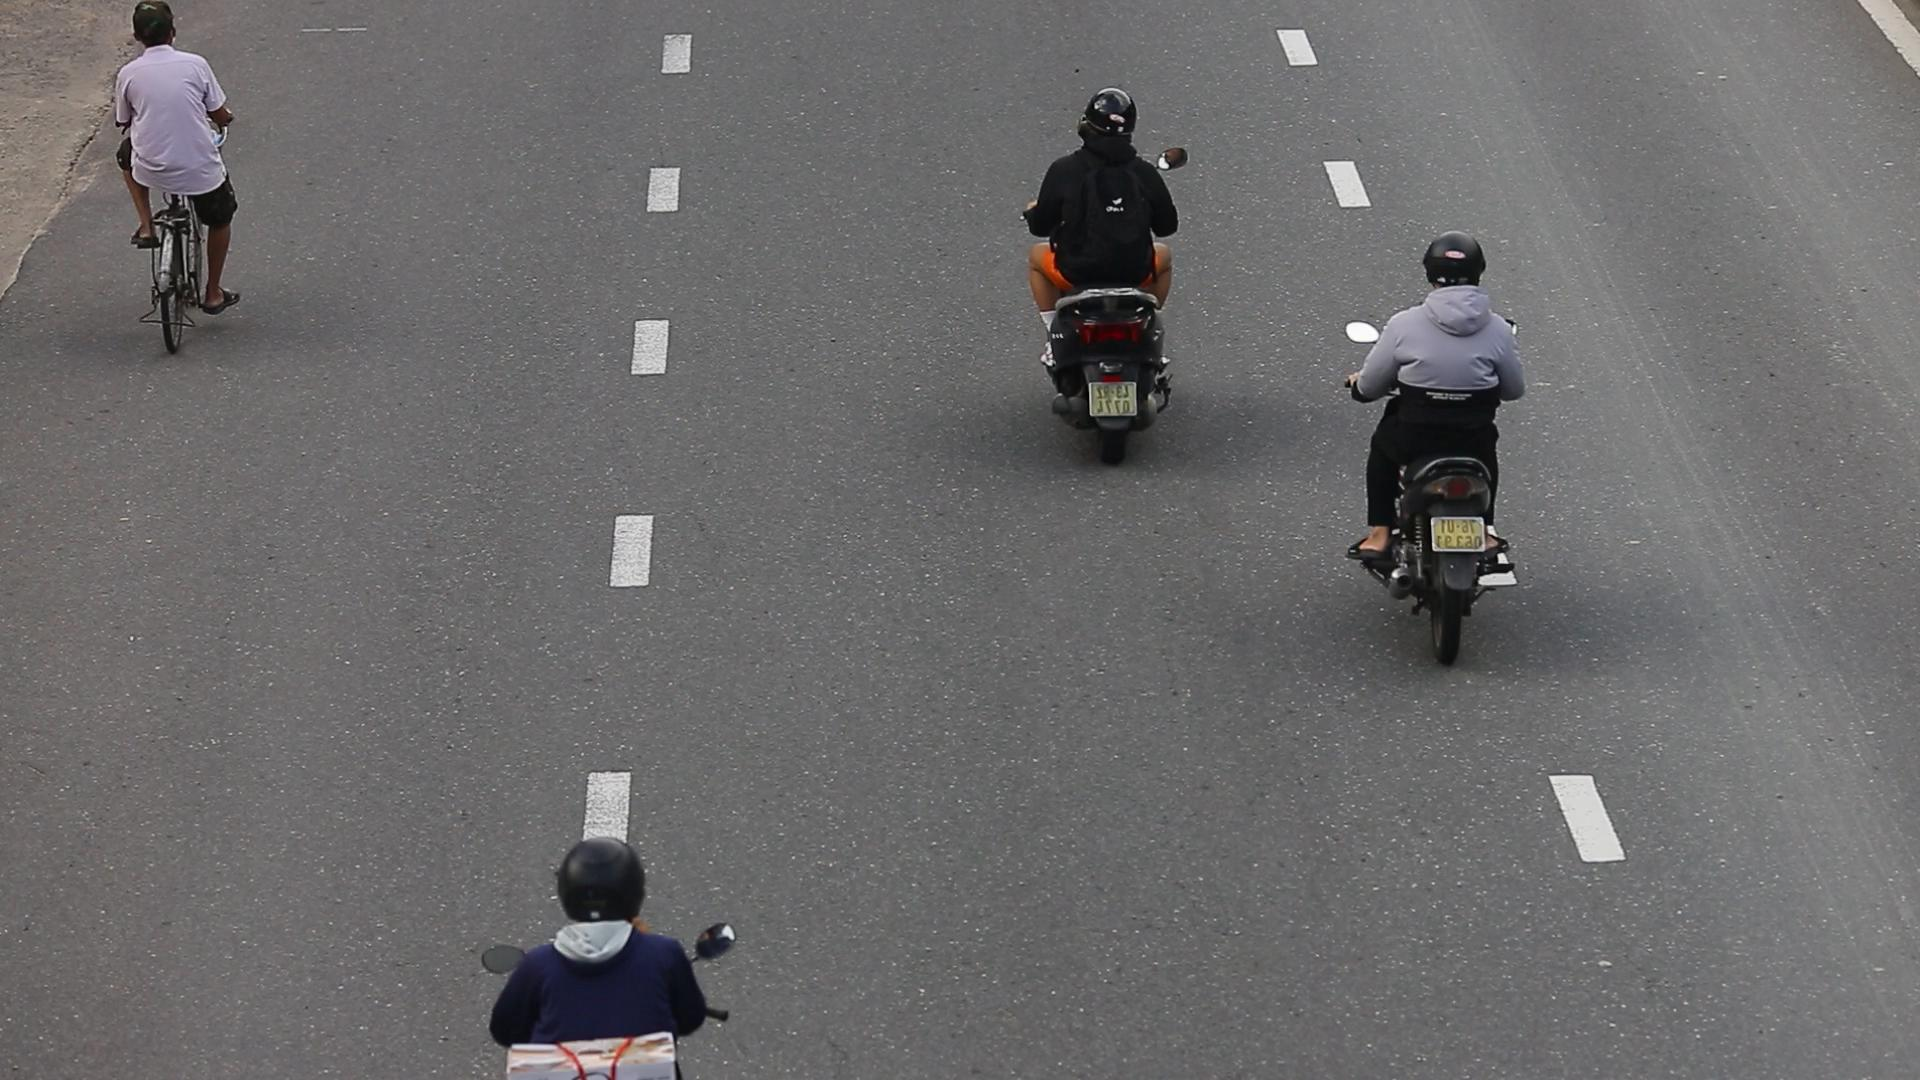motobike: (1332, 208, 1571, 683), (1001, 57, 1201, 484)
